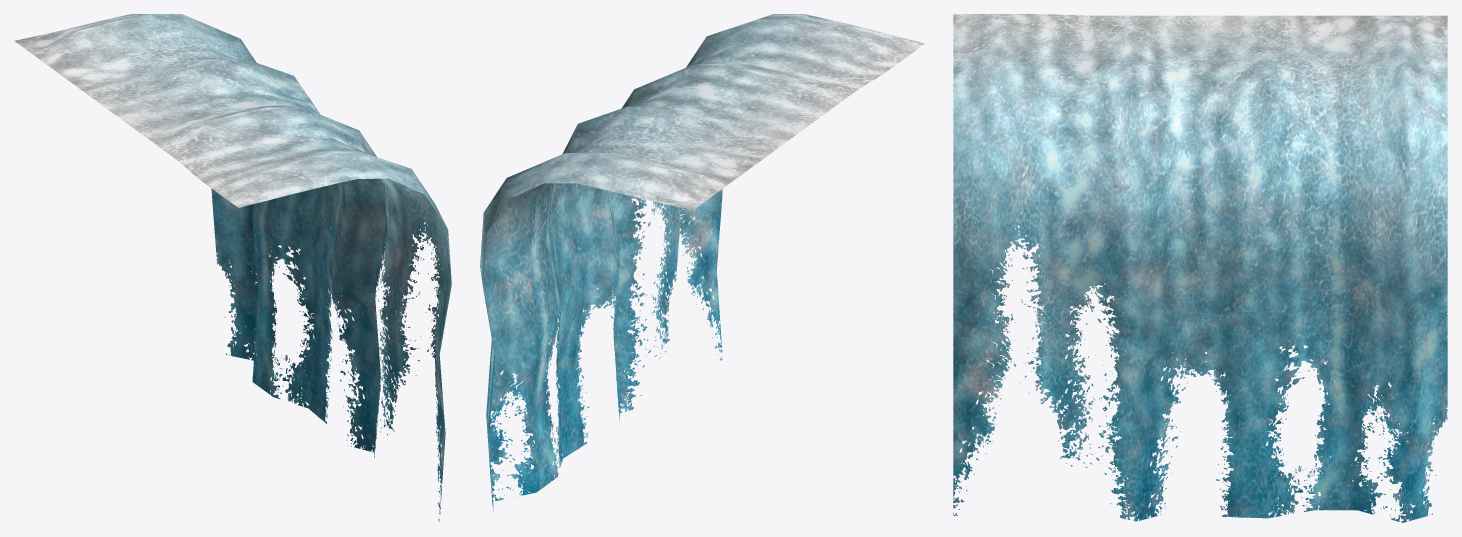
Rendered from FrozenWaterFall.fbx.
3 views of the same model, side by side, from view 1: azimuth 30°, elevation 25°; view 2: azimuth 150°, elevation 25°; view 3: azimuth 270°, elevation 25° (orthographic). The views are drawn at different scales.
Parts seen in each view (by area): view 1: Plane; view 2: Plane; view 3: Plane.
Part boxes in pixels (left/top/right/bottom): Plane: left=14, top=14, right=451, bottom=521; Plane: left=480, top=14, right=924, bottom=511; Plane: left=953, top=14, right=1447, bottom=522.
Size of the model in its own units: 300 by 459 by 501.
